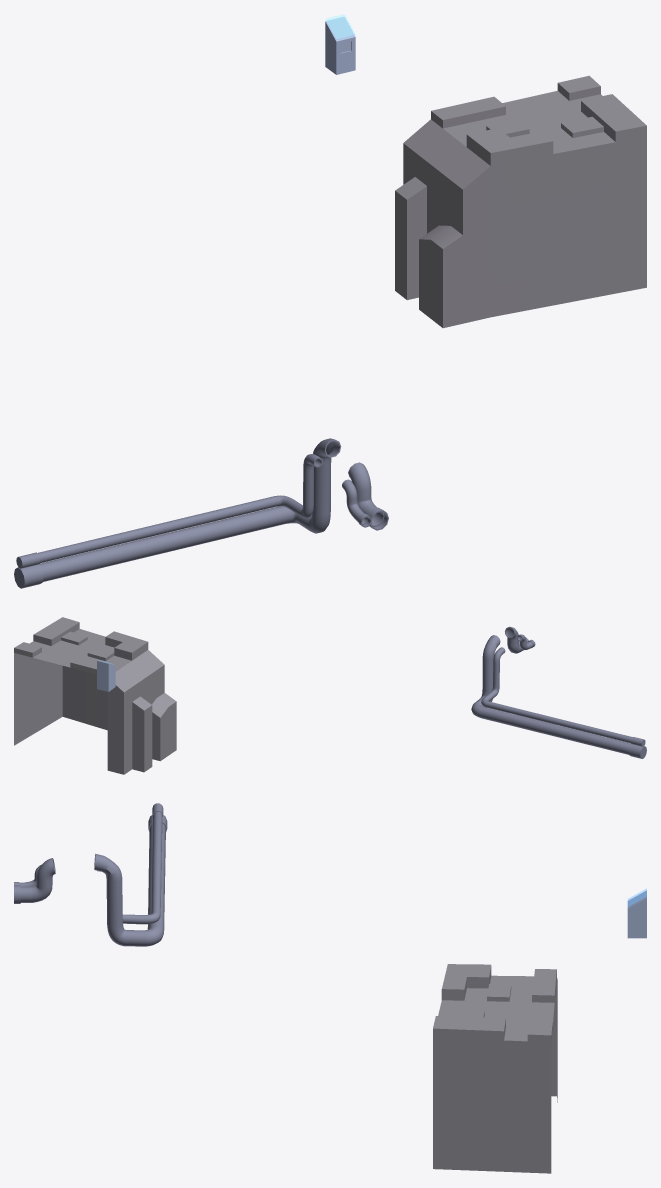
File: Blocking_Hub_ElementsPresent.fbx
3 renders of one model, top to bottom at view 1: azimuth 30°, elevation 25°; view 2: azimuth 150°, elevation 25°; view 3: azimuth 270°, elevation 25°, orthographic. The views are drawn at different scales.
Parts seen in each view (by area): view 1: SolDebris.002, Tuyau.015, Tuyau.018, LevierCasse.001; view 2: SolDebris.002, Tuyau.015, Tuyau.018, LevierCasse.001; view 3: SolDebris.002, Tuyau.015, Tuyau.018, LevierCasse.001.
Boxes of the visible parts, box(x1,y1,x2,y2) form: SolDebris.002: box(395, 75, 646, 328); Tuyau.015: box(14, 438, 388, 588); Tuyau.018: box(16, 454, 371, 568); LevierCasse.001: box(325, 14, 355, 74); SolDebris.002: box(14, 617, 176, 774); Tuyau.015: box(471, 626, 646, 758); Tuyau.018: box(481, 634, 645, 746); LevierCasse.001: box(97, 660, 115, 691); SolDebris.002: box(433, 964, 557, 1173); Tuyau.015: box(14, 815, 167, 946); Tuyau.018: box(14, 803, 163, 924); LevierCasse.001: box(627, 888, 646, 938).
Bounding box in the file's own units: 33.76 × 9.19 × 26.78.
